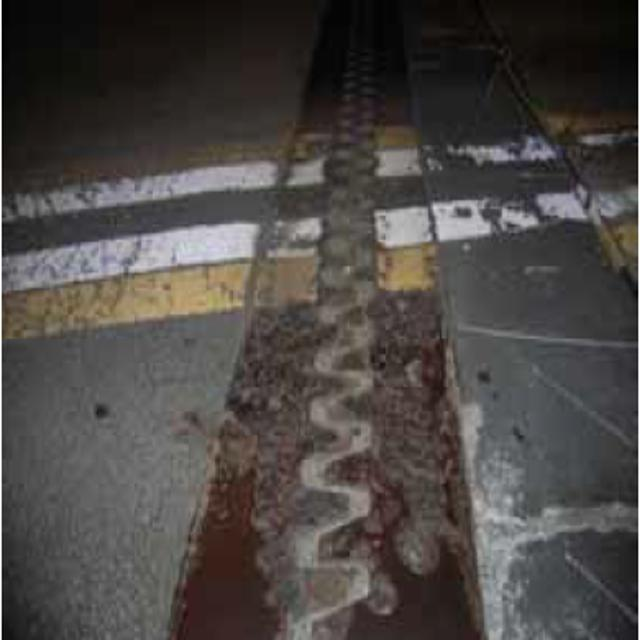corrosion: (173, 137, 490, 640)
